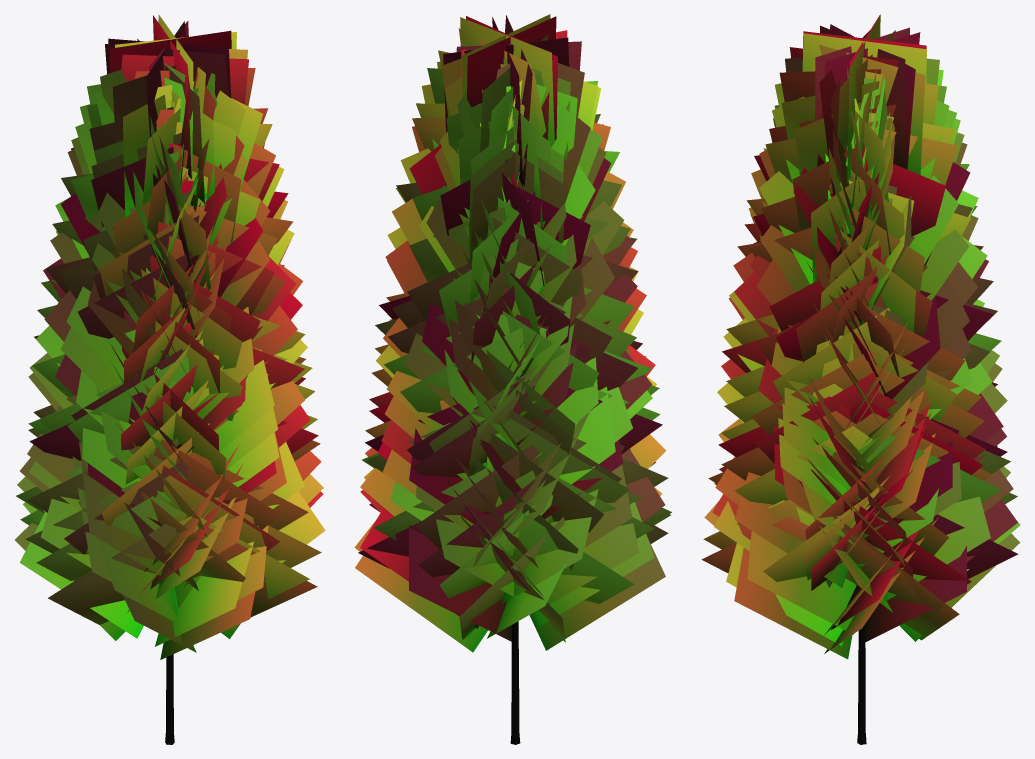
The model's file is URP_P4_Tree_2_LOD_1.fbx.
The picture shows the model from 3 angles, left to right: view 1: azimuth 30°, elevation 25°; view 2: azimuth 150°, elevation 25°; view 3: azimuth 270°, elevation 25°; orthographic projection.
Visible parts, largest first — view 1: Tree_2_LOD_1; view 2: Tree_2_LOD_1; view 3: Tree_2_LOD_1.
Part boxes in pixels (box(x1,y1,x2,y2)): Tree_2_LOD_1: box(14, 14, 325, 744); Tree_2_LOD_1: box(354, 14, 671, 744); Tree_2_LOD_1: box(701, 14, 1020, 744).
Size of the model in its own units: 214 by 522 by 214.
